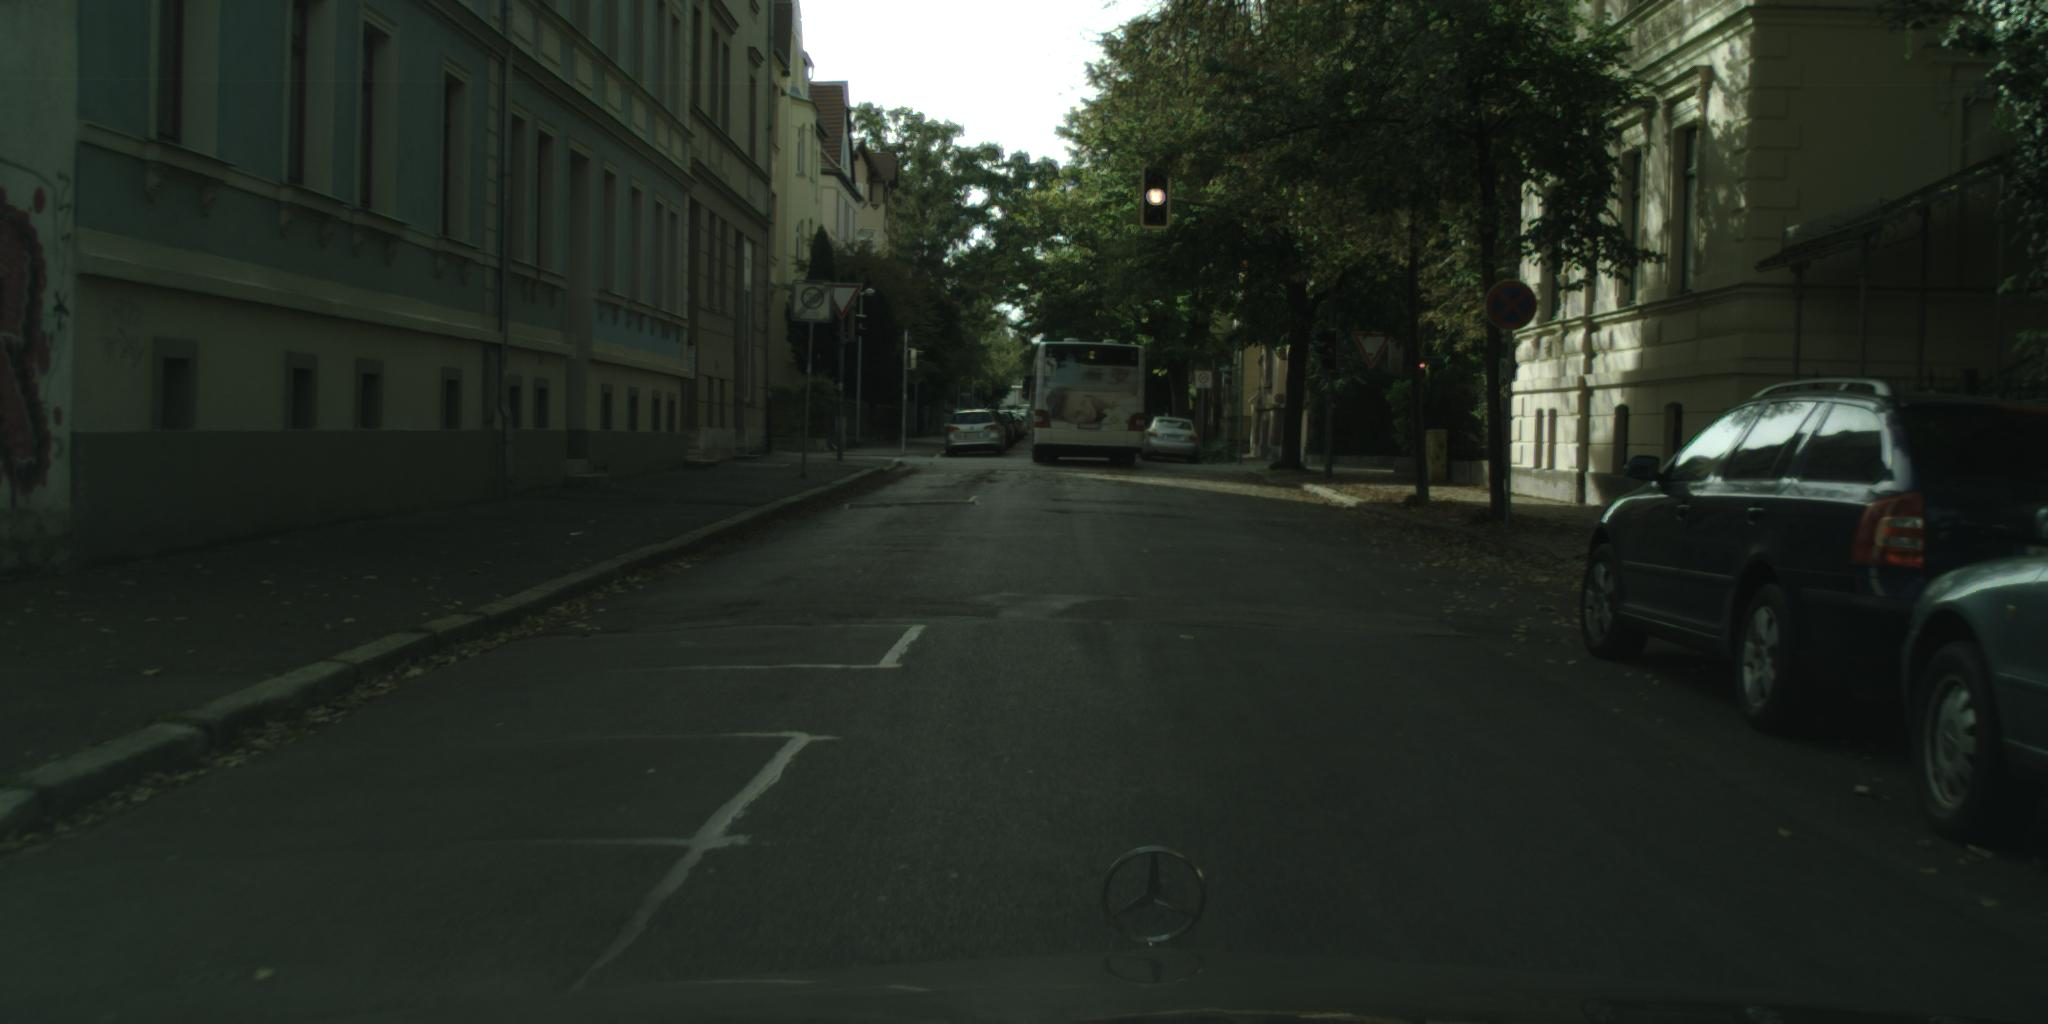bus: (1023, 337, 1145, 468)
car: (1580, 377, 2048, 737), (1900, 507, 2048, 840), (946, 409, 1007, 458), (1139, 415, 1202, 464)
